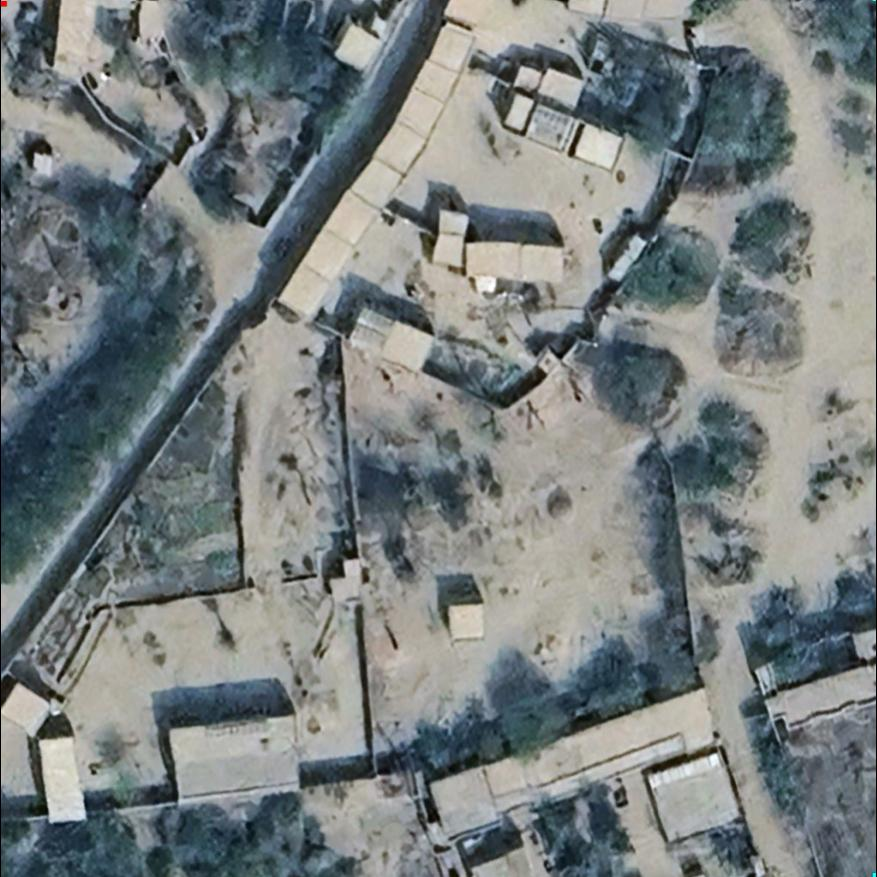Solarpanel: (524, 105, 578, 149), (349, 302, 396, 351)
